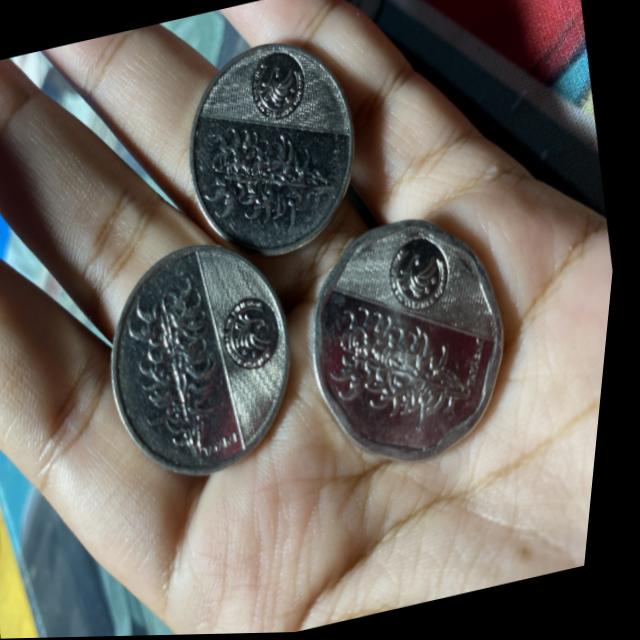5_New_Back: (121, 270, 246, 458), (327, 302, 487, 438), (192, 121, 351, 242)
